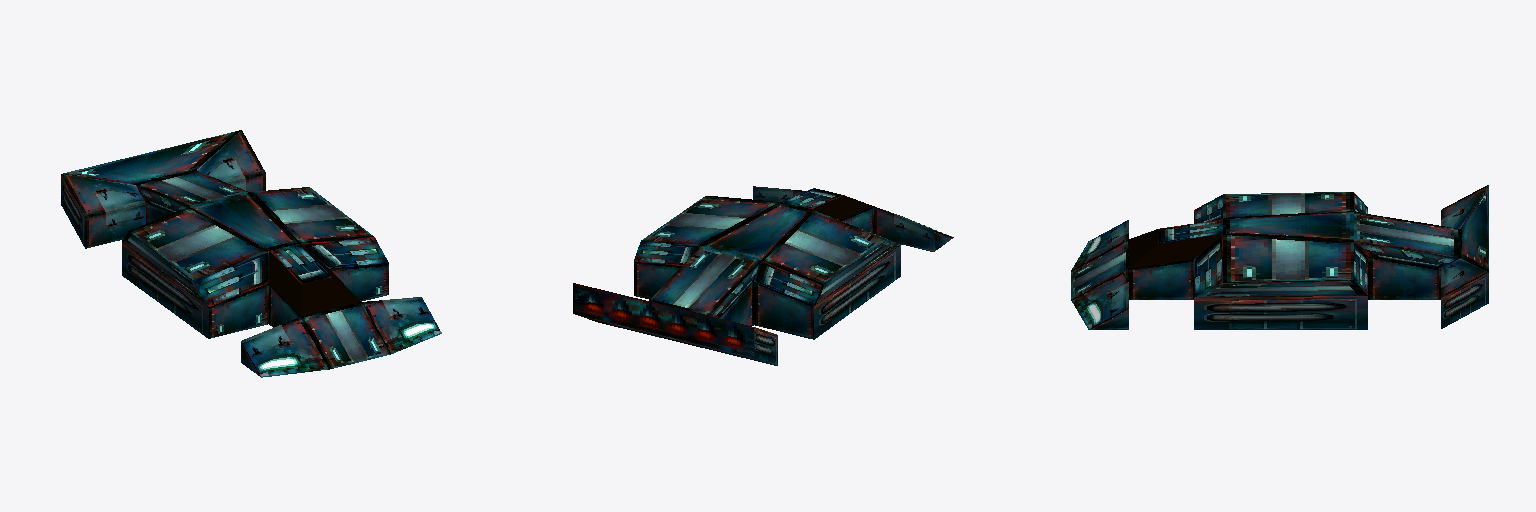
The picture shows the model from 3 angles: view 1: azimuth 30°, elevation 25°; view 2: azimuth 150°, elevation 25°; view 3: azimuth 270°, elevation 25°; orthographic projection.
Visible parts, largest first — view 1: default; view 2: default; view 3: default.
Boxes of the visible parts, box(x1,y1,x2,y2) form: default: box(61, 130, 441, 377); default: box(573, 186, 953, 365); default: box(1071, 185, 1488, 329).
Size of the model in its own units: 3.46 by 1.08 by 6.92.
2 materials, 1 textured.